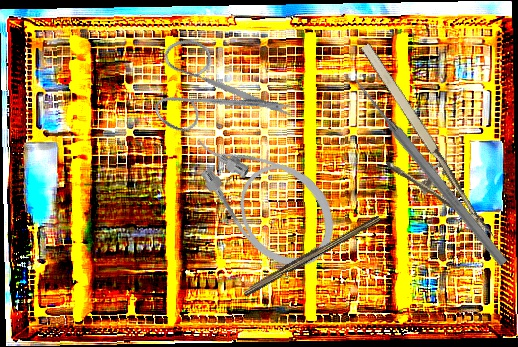Cannula: (175, 101, 355, 286)
Iris Scissors: (132, 7, 300, 169)
Needle Holder: (328, 39, 495, 266)
Pusher: (349, 75, 511, 268)
Scalpel Handle: (241, 211, 382, 299)
